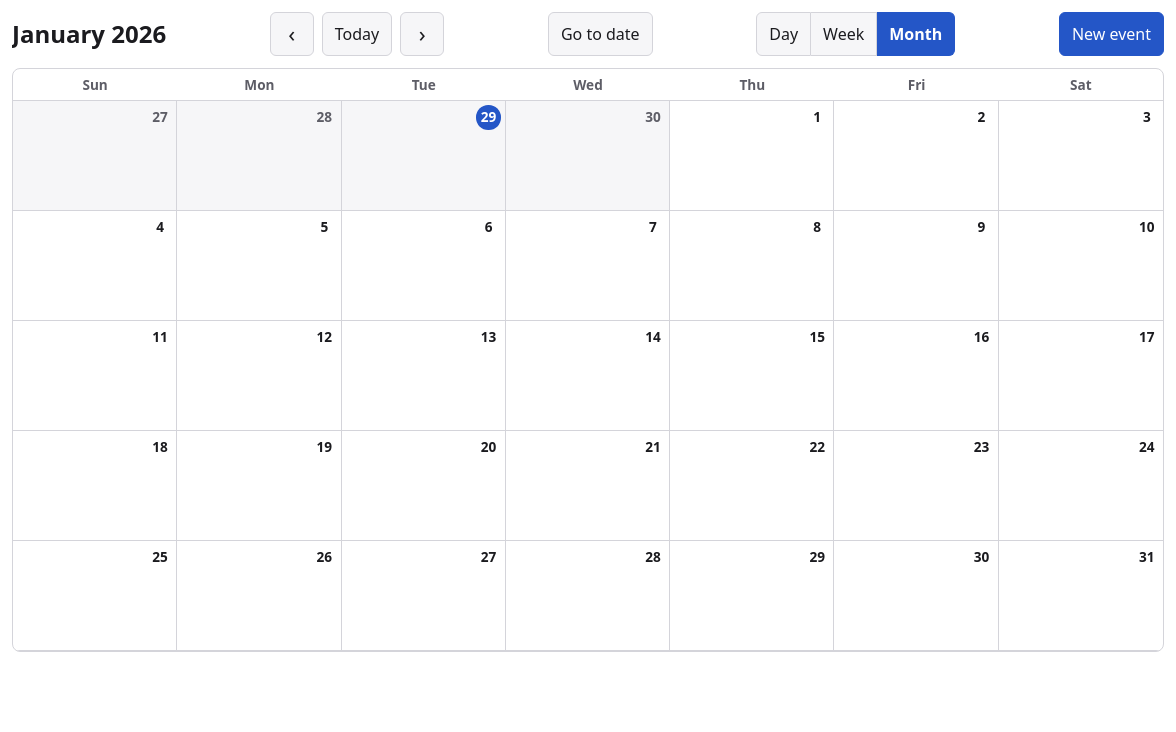
Test case: CalendarScreen: moving through time (US2) › clamps the selected date when moving by month
Step 1. Click the button named "Next month" → (422, 34), box [400,12,444,56]
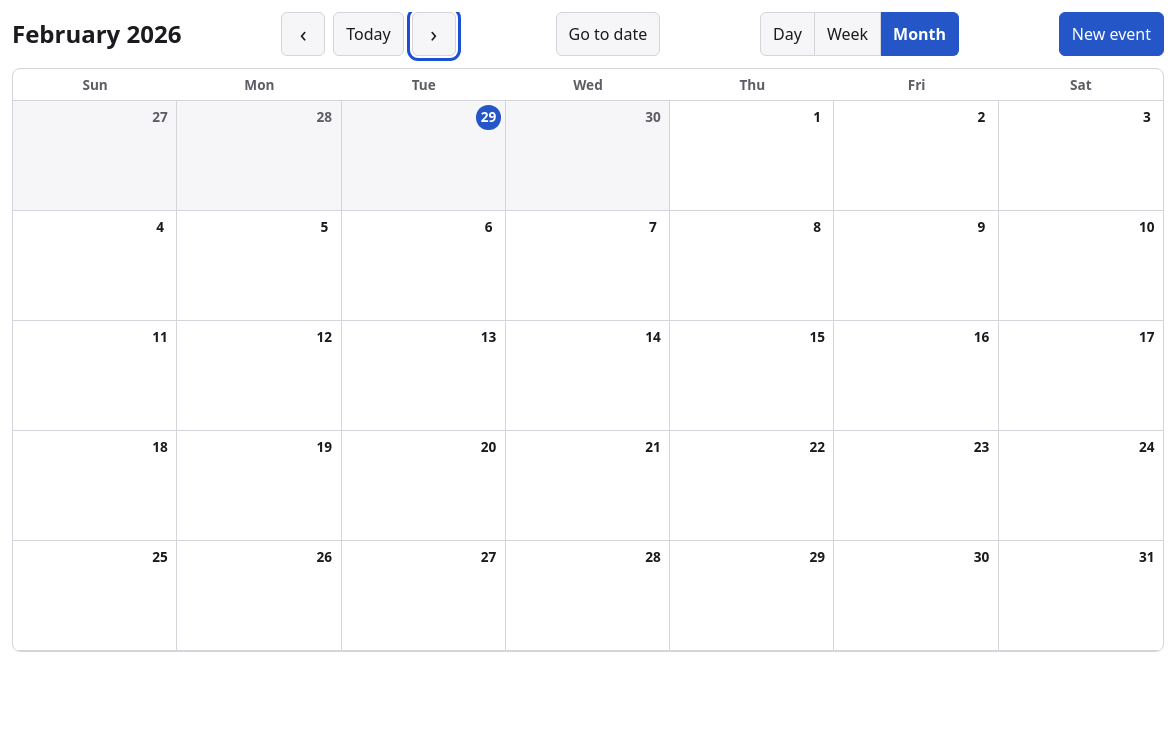
Step 2. Click the button "Day" → (788, 34), box [760,12,815,56]
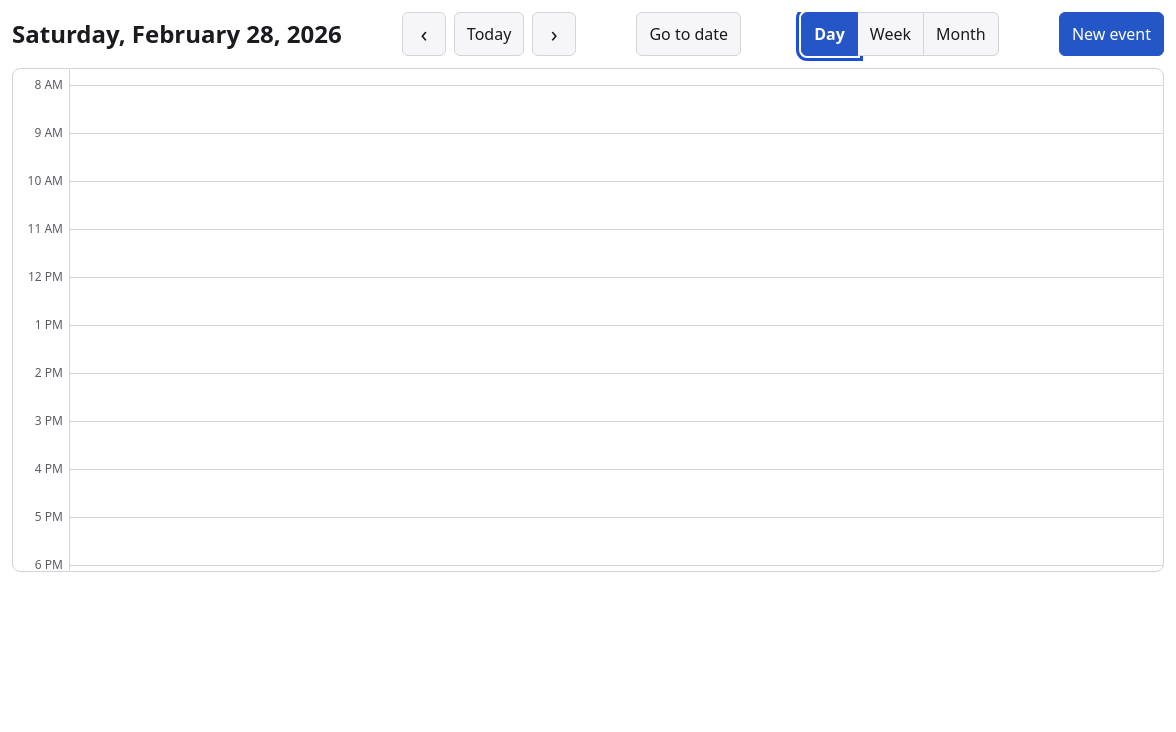
Result: the heading "Saturday, February 28, 2026" is shown at [12,17,342,51]
